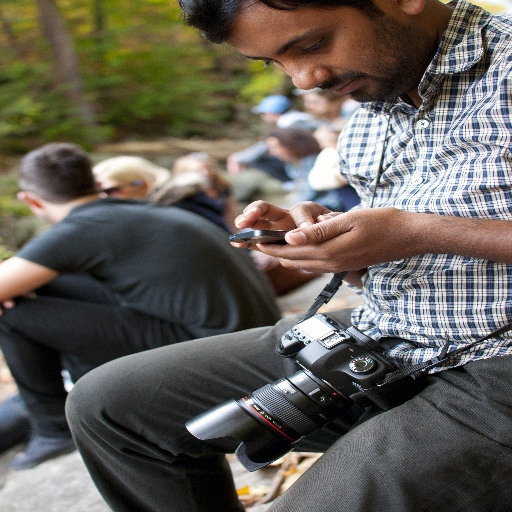hand: (255, 204, 419, 274), (228, 197, 344, 251), (0, 292, 36, 309)
